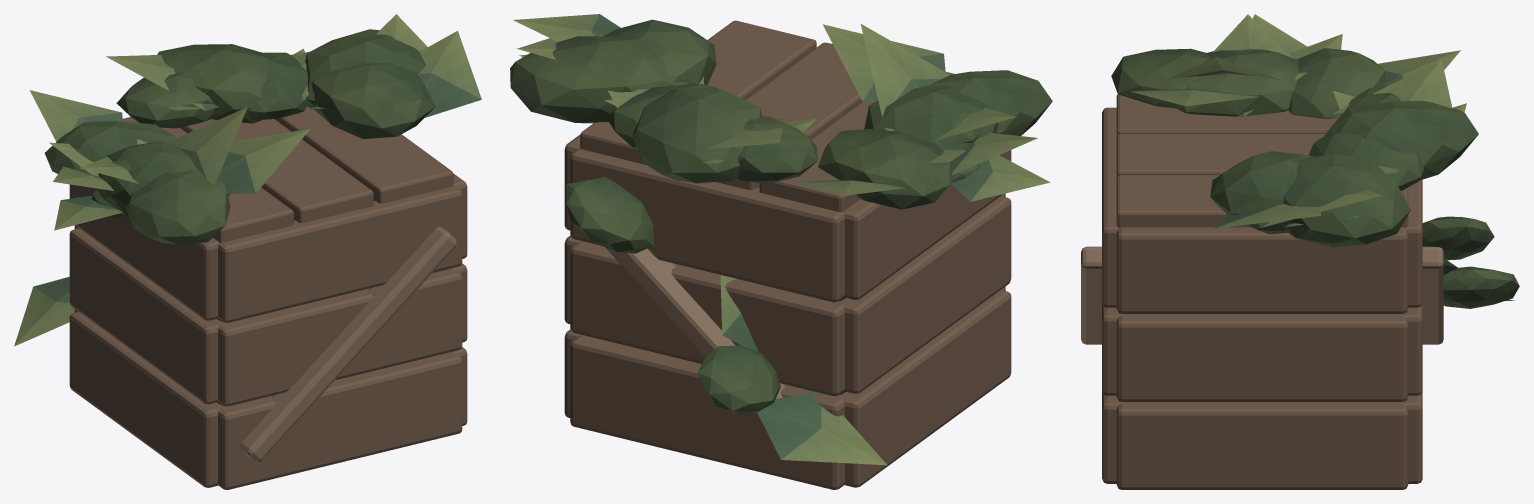
File: kit_crate.glb
The picture shows the model from 3 angles, left to right: view 1: azimuth 30°, elevation 25°; view 2: azimuth 150°, elevation 25°; view 3: azimuth 270°, elevation 25°; orthographic projection. The views are drawn at different scales.
Parts seen in each view (by area): view 1: Crate plank.008, Crate plank, Crate plank.004, Crate plank.005, Crate plank.001, Crate diagonal, Crate lid.002, Woodland shared moss cushion.034, Crate plank.009, Crate lid.001, Woodland shared moss cushion.029, Woodland shared moss cushion.027 (+19 smaller); view 2: Crate plank.010, Crate plank.006, Crate plank.002, Crate plank.005, Crate plank.001, Woodland shared moss cushion.036, Woodland shared moss cushion.027, Crate plank.009, Woodland shared moss cushion.026, Crate lid.002, Crate lid.001, Woodland shared curved ivy leaf.076 (+21 smaller); view 3: Crate plank.007, Crate plank.003, Crate plank.011, Woodland shared moss cushion.036, Crate lid.001, Woodland shared moss cushion.027, Crate lid.002, Woodland shared moss cushion.030, Crate lid, Woodland shared moss cushion.026, Woodland shared moss cushion.034, Woodland shared moss cushion.029 (+21 smaller).
Part boxes in pixels (x1=…): Crate plank.008: x1=218, y1=186, x2=462, y2=322; Crate plank: x1=218, y1=352, x2=462, y2=489; Crate plank.004: x1=218, y1=268, x2=462, y2=406; Crate plank.005: x1=69, y1=228, x2=222, y2=404; Crate plank.001: x1=69, y1=312, x2=221, y2=487; Crate diagonal: x1=240, y1=226, x2=457, y2=462; Crate lid.002: x1=275, y1=106, x2=453, y2=203; Woodland shared moss cushion.034: x1=311, y1=63, x2=435, y2=138; Crate plank.009: x1=69, y1=184, x2=218, y2=320; Crate lid.001: x1=180, y1=119, x2=373, y2=222; Woodland shared moss cushion.029: x1=125, y1=170, x2=230, y2=244; Woodland shared moss cushion.027: x1=157, y1=44, x2=273, y2=123; Crate plank.010: x1=570, y1=148, x2=844, y2=302; Crate plank.006: x1=570, y1=241, x2=844, y2=395; Crate plank.002: x1=570, y1=335, x2=844, y2=489; Crate plank.005: x1=840, y1=196, x2=1011, y2=393; Crate plank.001: x1=840, y1=290, x2=1011, y2=487; Woodland shared moss cushion.036: x1=510, y1=36, x2=688, y2=123; Woodland shared moss cushion.027: x1=632, y1=88, x2=761, y2=183; Crate plank.009: x1=843, y1=150, x2=1011, y2=299; Woodland shared moss cushion.026: x1=818, y1=128, x2=954, y2=209; Crate lid.002: x1=580, y1=20, x2=816, y2=164; Crate lid.001: x1=716, y1=42, x2=862, y2=190; Woodland shared curved ivy leaf.076: x1=757, y1=392, x2=887, y2=465; Crate plank.007: x1=1116, y1=314, x2=1408, y2=401; Crate plank.003: x1=1116, y1=402, x2=1408, y2=489; Crate plank.011: x1=1116, y1=227, x2=1408, y2=313; Woodland shared moss cushion.036: x1=1283, y1=153, x2=1410, y2=247; Crate lid.001: x1=1116, y1=134, x2=1325, y2=177; Woodland shared moss cushion.027: x1=1324, y1=100, x2=1478, y2=180; Crate lid.002: x1=1116, y1=175, x2=1408, y2=227; Woodland shared moss cushion.030: x1=1175, y1=50, x2=1299, y2=116; Crate lid: x1=1116, y1=94, x2=1336, y2=136; Woodland shared moss cushion.026: x1=1288, y1=48, x2=1384, y2=118; Woodland shared moss cushion.034: x1=1210, y1=151, x2=1313, y2=234; Woodland shared moss cushion.029: x1=1111, y1=48, x2=1210, y2=108.
Bounding box in the file's own units: 0.8294 × 0.5882 × 0.6775.
Materials: 6 (3 with a texture image).
